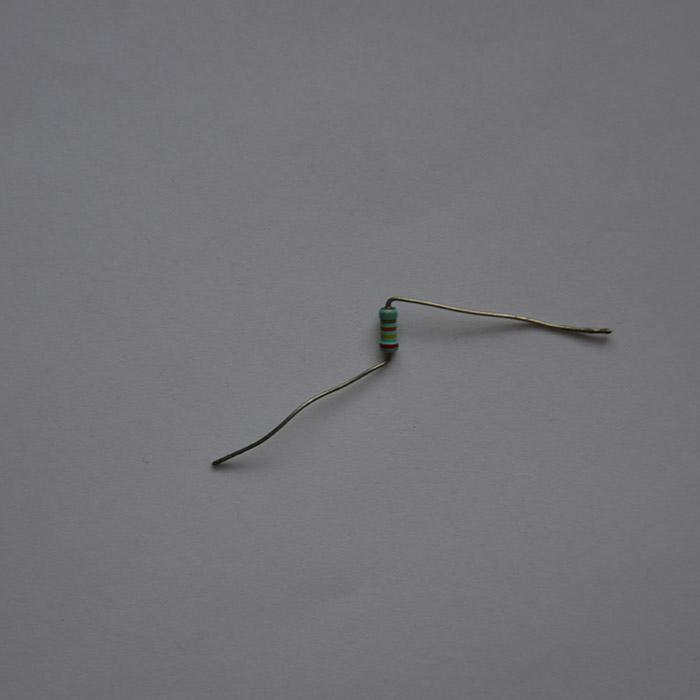resistor: (378, 305, 398, 352)
